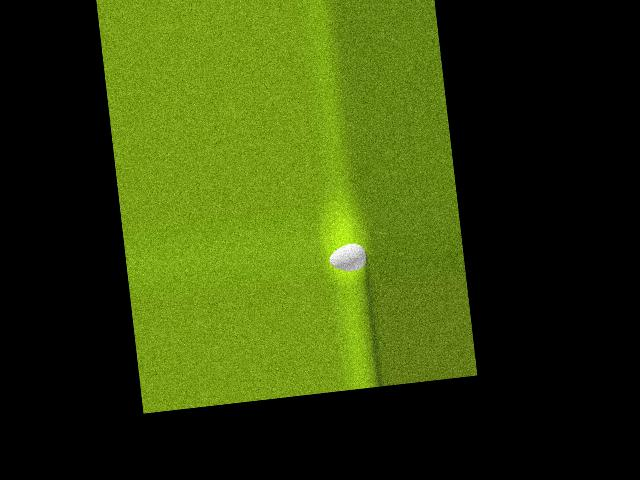egg: (327, 242, 367, 273)
